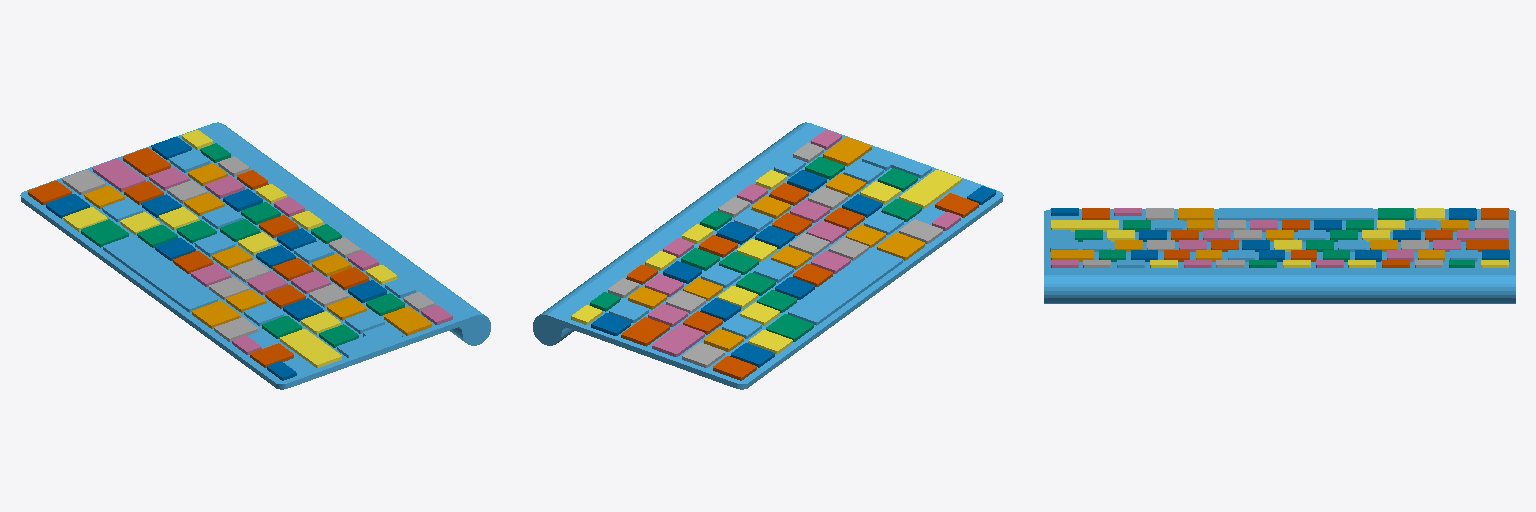
--- What the picture shows (computed from the rendered views, not written in the file) ---
The picture shows the robot from 3 angles, left to right: view 1: azimuth 30°, elevation 25°; view 2: azimuth 150°, elevation 25°; view 3: azimuth 270°, elevation 25°; orthographic projection.
Model partnet_8b886bb1aba6938aa3c97bdad98f8ca with 79 links and 78 joints (77 prismatic, 1 fixed), rooted at base, posed every joint at zero.
Visible links, largest first — view 1: link_0, link_56, link_50, link_37, link_63, link_12, link_55, link_57, link_38, link_54, link_59, link_60 (+28 smaller); view 2: link_0, link_56, link_50, link_37, link_12, link_63, link_55, link_57, link_38, link_60, link_52, link_58 (+28 smaller); view 3: link_0, link_56, link_50, link_37.
Boxes of the visible links, x1=… form: link_0: x1=20, y1=122, x2=490, y2=389; link_56: x1=103, y1=236, x2=217, y2=312; link_50: x1=280, y1=329, x2=341, y2=367; link_37: x1=92, y1=159, x2=145, y2=191; link_63: x1=383, y1=306, x2=431, y2=335; link_12: x1=123, y1=148, x2=170, y2=176; link_55: x1=192, y1=301, x2=240, y2=328; link_57: x1=81, y1=219, x2=128, y2=247; link_38: x1=62, y1=170, x2=105, y2=194; link_54: x1=214, y1=317, x2=258, y2=341; link_59: x1=45, y1=194, x2=89, y2=218; link_60: x1=28, y1=181, x2=71, y2=204; link_0: x1=533, y1=122, x2=1003, y2=389; link_56: x1=788, y1=249, x2=902, y2=325; link_50: x1=899, y1=170, x2=961, y2=208; link_37: x1=652, y1=324, x2=704, y2=356; link_12: x1=621, y1=317, x2=669, y2=346; link_63: x1=823, y1=137, x2=871, y2=166; link_55: x1=877, y1=233, x2=925, y2=260; link_57: x1=766, y1=314, x2=813, y2=341; link_38: x1=682, y1=342, x2=724, y2=367; link_60: x1=713, y1=356, x2=756, y2=380; link_52: x1=935, y1=193, x2=978, y2=217; link_58: x1=748, y1=330, x2=792, y2=354; link_0: x1=1044, y1=209, x2=1515, y2=303; link_56: x1=1218, y1=208, x2=1373, y2=220; link_50: x1=1051, y1=220, x2=1118, y2=231; link_37: x1=1457, y1=230, x2=1508, y2=241.
Bounding box of the posed robot: 0.8277 × 1.78 × 0.1177 m (x, y, z).
79 mesh visuals loaded from 79 distinct referenced files (79 OBJ).

robot.urdf — partnet_8b886bb1aba6938aa3c97bdad98f8ca:
<?xml version="1.0" ?>
<robot name="partnet_8b886bb1aba6938aa3c97bdad98f8ca">
	<link name="base"/>
	<link name="link_0">
		<visual name="frame-1">
			<origin xyz="0 0 0"/>
			<geometry>
				<mesh filename="package://objects_description/keyboard/textured_objs/original-6.obj"/>
			</geometry>
		</visual>
		<visual name="frame-1">
			<origin xyz="0 0 0"/>
			<geometry>
				<mesh filename="package://objects_description/keyboard/textured_objs/original-80.obj"/>
			</geometry>
		</visual>
		<collision>
			<origin xyz="0 0 0"/>
			<geometry>
				<mesh filename="package://objects_description/keyboard/textured_objs/original-6.obj"/>
			</geometry>
		</collision>
		<collision>
			<origin xyz="0 0 0"/>
			<geometry>
				<mesh filename="package://objects_description/keyboard/textured_objs/original-80.obj"/>
			</geometry>
		</collision>
	</link>
	<joint name="joint_0" type="fixed">
		<origin rpy="1.570796326794897 0 -1.570796326794897" xyz="0 0 0"/>
		<child link="link_0"/>
		<parent link="base"/>
	</joint>
	<link name="link_1">
		<visual name="key-2">
			<origin xyz="0.2305384505420256 -0.04784422458054394 0.11968905767549498"/>
			<geometry>
				<mesh filename="package://objects_description/keyboard/textured_objs/original-20.obj"/>
			</geometry>
		</visual>
		<collision>
			<origin xyz="0.2305384505420256 -0.04784422458054394 0.11968905767549498"/>
			<geometry>
				<mesh filename="package://objects_description/keyboard/textured_objs/original-20.obj"/>
			</geometry>
		</collision>
	</link>
	<joint name="joint_1" type="prismatic">
		<origin xyz="-0.2305384505420256 0.04784422458054394 -0.11968905767549498"/>
		<axis xyz="0 -0.9938588581379322 -0.11065518560268853"/>
		<child link="link_1"/>
		<parent link="link_0"/>
		<limit lower="0" upper="0.01"/>
	</joint>
	<link name="link_2">
		<visual name="key-3">
			<origin xyz="0.2305384505420256 -0.04784422458054394 0.11968905767549498"/>
			<geometry>
				<mesh filename="package://objects_description/keyboard/textured_objs/original-72.obj"/>
			</geometry>
		</visual>
		<collision>
			<origin xyz="0.2305384505420256 -0.04784422458054394 0.11968905767549498"/>
			<geometry>
				<mesh filename="package://objects_description/keyboard/textured_objs/original-72.obj"/>
			</geometry>
		</collision>
	</link>
	<joint name="joint_2" type="prismatic">
		<origin xyz="-0.2305384505420256 0.04784422458054394 -0.11968905767549498"/>
		<axis xyz="0 -0.9938588581379322 -0.11065518560268853"/>
		<child link="link_2"/>
		<parent link="link_0"/>
		<limit lower="0" upper="0.01"/>
	</joint>
	<link name="link_3">
		<visual name="key-4">
			<origin xyz="0.2305384505420256 -0.04784422458054394 0.11968905767549498"/>
			<geometry>
				<mesh filename="package://objects_description/keyboard/textured_objs/original-14.obj"/>
			</geometry>
		</visual>
		<collision>
			<origin xyz="0.2305384505420256 -0.04784422458054394 0.11968905767549498"/>
			<geometry>
				<mesh filename="package://objects_description/keyboard/textured_objs/original-14.obj"/>
			</geometry>
		</collision>
	</link>
	<joint name="joint_3" type="prismatic">
		<origin xyz="-0.2305384505420256 0.04784422458054394 -0.11968905767549498"/>
		<axis xyz="0 -0.9938588581379322 -0.11065518560268853"/>
		<child link="link_3"/>
		<parent link="link_0"/>
		<limit lower="0" upper="0.01"/>
	</joint>
	<link name="link_4">
		<visual name="key-5">
			<origin xyz="0.2305384505420256 -0.04784422458054394 0.11968905767549498"/>
			<geometry>
				<mesh filename="package://objects_description/keyboard/textured_objs/original-10.obj"/>
			</geometry>
		</visual>
		<collision>
			<origin xyz="0.2305384505420256 -0.04784422458054394 0.11968905767549498"/>
			<geometry>
				<mesh filename="package://objects_description/keyboard/textured_objs/original-10.obj"/>
			</geometry>
		</collision>
	</link>
	<joint name="joint_4" type="prismatic">
		<origin xyz="-0.2305384505420256 0.04784422458054394 -0.11968905767549498"/>
		<axis xyz="0 -0.9938588581379322 -0.11065518560268853"/>
		<child link="link_4"/>
		<parent link="link_0"/>
		<limit lower="0" upper="0.01"/>
	</joint>
	<link name="link_5">
		<visual name="key-6">
			<origin xyz="0.2305384505420256 -0.04784422458054394 0.11968905767549498"/>
			<geometry>
				<mesh filename="package://objects_description/keyboard/textured_objs/original-4.obj"/>
			</geometry>
		</visual>
		<collision>
			<origin xyz="0.2305384505420256 -0.04784422458054394 0.11968905767549498"/>
			<geometry>
				<mesh filename="package://objects_description/keyboard/textured_objs/original-4.obj"/>
			</geometry>
		</collision>
	</link>
	<joint name="joint_5" type="prismatic">
		<origin xyz="-0.2305384505420256 0.04784422458054394 -0.11968905767549498"/>
		<axis xyz="0 -0.9938588581379322 -0.11065518560268853"/>
		<child link="link_5"/>
		<parent link="link_0"/>
		<limit lower="0" upper="0.01"/>
	</joint>
	<link name="link_6">
		<visual name="key-7">
			<origin xyz="0.2305384505420256 -0.04784422458054394 0.11968905767549498"/>
			<geometry>
				<mesh filename="package://objects_description/keyboard/textured_objs/original-2.obj"/>
			</geometry>
		</visual>
		<collision>
			<origin xyz="0.2305384505420256 -0.04784422458054394 0.11968905767549498"/>
			<geometry>
				<mesh filename="package://objects_description/keyboard/textured_objs/original-2.obj"/>
			</geometry>
		</collision>
	</link>
	<joint name="joint_6" type="prismatic">
		<origin xyz="-0.2305384505420256 0.04784422458054394 -0.11968905767549498"/>
		<axis xyz="0 -0.9938588581379322 -0.11065518560268853"/>
		<child link="link_6"/>
		<parent link="link_0"/>
		<limit lower="0" upper="0.01"/>
	</joint>
	<link name="link_7">
		<visual name="key-8">
			<origin xyz="0.2305384505420256 -0.04784422458054394 0.11968905767549498"/>
			<geometry>
				<mesh filename="package://objects_description/keyboard/textured_objs/original-23.obj"/>
			</geometry>
		</visual>
		<collision>
			<origin xyz="0.2305384505420256 -0.04784422458054394 0.11968905767549498"/>
			<geometry>
				<mesh filename="package://objects_description/keyboard/textured_objs/original-23.obj"/>
			</geometry>
		</collision>
	</link>
	<joint name="joint_7" type="prismatic">
		<origin xyz="-0.2305384505420256 0.04784422458054394 -0.11968905767549498"/>
		<axis xyz="0 -0.9938588581379322 -0.11065518560268853"/>
		<child link="link_7"/>
		<parent link="link_0"/>
		<limit lower="0" upper="0.01"/>
	</joint>
	<link name="link_8">
		<visual name="key-9">
			<origin xyz="0.2305384505420256 -0.04784422458054394 0.11968905767549498"/>
			<geometry>
				<mesh filename="package://objects_description/keyboard/textured_objs/original-17.obj"/>
			</geometry>
		</visual>
		<collision>
			<origin xyz="0.2305384505420256 -0.04784422458054394 0.11968905767549498"/>
			<geometry>
				<mesh filename="package://objects_description/keyboard/textured_objs/original-17.obj"/>
			</geometry>
		</collision>
	</link>
	<joint name="joint_8" type="prismatic">
		<origin xyz="-0.2305384505420256 0.04784422458054394 -0.11968905767549498"/>
		<axis xyz="0 -0.9938588581379322 -0.11065518560268853"/>
		<child link="link_8"/>
		<parent link="link_0"/>
		<limit lower="0" upper="0.01"/>
	</joint>
	<link name="link_9">
		<visual name="key-10">
			<origin xyz="0.2305384505420256 -0.04784422458054394 0.11968905767549498"/>
			<geometry>
				<mesh filename="package://objects_description/keyboard/textured_objs/original-7.obj"/>
			</geometry>
		</visual>
		<collision>
			<origin xyz="0.2305384505420256 -0.04784422458054394 0.11968905767549498"/>
			<geometry>
				<mesh filename="package://objects_description/keyboard/textured_objs/original-7.obj"/>
			</geometry>
		</collision>
	</link>
	<joint name="joint_9" type="prismatic">
		<origin xyz="-0.2305384505420256 0.04784422458054394 -0.11968905767549498"/>
		<axis xyz="0 -0.9938588581379322 -0.11065518560268853"/>
		<child link="link_9"/>
		<parent link="link_0"/>
		<limit lower="0" upper="0.01"/>
	</joint>
	<link name="link_10">
		<visual name="key-11">
			<origin xyz="0.2305384505420256 -0.04784422458054394 0.11968905767549498"/>
			<geometry>
				<mesh filename="package://objects_description/keyboard/textured_objs/original-9.obj"/>
			</geometry>
		</visual>
		<collision>
			<origin xyz="0.2305384505420256 -0.04784422458054394 0.11968905767549498"/>
			<geometry>
				<mesh filename="package://objects_description/keyboard/textured_objs/original-9.obj"/>
			</geometry>
		</collision>
	</link>
	<joint name="joint_10" type="prismatic">
		<origin xyz="-0.2305384505420256 0.04784422458054394 -0.11968905767549498"/>
		<axis xyz="0 -0.9938588581379322 -0.11065518560268853"/>
		<child link="link_10"/>
		<parent link="link_0"/>
		<limit lower="0" upper="0.01"/>
	</joint>
	<link name="link_11">
		<visual name="key-12">
			<origin xyz="0.2305384505420256 -0.04784422458054394 0.11968905767549498"/>
			<geometry>
				<mesh filename="package://objects_description/keyboard/textured_objs/original-19.obj"/>
			</geometry>
		</visual>
		<collision>
			<origin xyz="0.2305384505420256 -0.04784422458054394 0.11968905767549498"/>
			<geometry>
				<mesh filename="package://objects_description/keyboard/textured_objs/original-19.obj"/>
			</geometry>
		</collision>
	</link>
	<joint name="joint_11" type="prismatic">
		<origin xyz="-0.2305384505420256 0.04784422458054394 -0.11968905767549498"/>
		<axis xyz="0 -0.9938588581379322 -0.11065518560268853"/>
		<child link="link_11"/>
		<parent link="link_0"/>
		<limit lower="0" upper="0.01"/>
	</joint>
	<link name="link_12">
		<visual name="key-13">
			<origin xyz="0.2305384505420256 -0.04784422458054394 0.11968905767549498"/>
			<geometry>
				<mesh filename="package://objects_description/keyboard/textured_objs/original-36.obj"/>
			</geometry>
		</visual>
		<collision>
			<origin xyz="0.2305384505420256 -0.04784422458054394 0.11968905767549498"/>
			<geometry>
				<mesh filename="package://objects_description/keyboard/textured_objs/original-36.obj"/>
			</geometry>
		</collision>
	</link>
	<joint name="joint_12" type="prismatic">
		<origin xyz="-0.2305384505420256 0.04784422458054394 -0.11968905767549498"/>
		<axis xyz="0 -0.9938588581379322 -0.11065518560268853"/>
		<child link="link_12"/>
		<parent link="link_0"/>
		<limit lower="0" upper="0.01"/>
	</joint>
	<link name="link_13">
		<visual name="key-14">
			<origin xyz="0.2305384505420256 -0.04784422458054394 0.11968905767549498"/>
			<geometry>
				<mesh filename="package://objects_description/keyboard/textured_objs/original-78.obj"/>
			</geometry>
		</visual>
		<collision>
			<origin xyz="0.2305384505420256 -0.04784422458054394 0.11968905767549498"/>
			<geometry>
				<mesh filename="package://objects_description/keyboard/textured_objs/original-78.obj"/>
			</geometry>
		</collision>
	</link>
	<joint name="joint_13" type="prismatic">
		<origin xyz="-0.2305384505420256 0.04784422458054394 -0.11968905767549498"/>
		<axis xyz="0 -0.9938588581379322 -0.11065518560268853"/>
		<child link="link_13"/>
		<parent link="link_0"/>
		<limit lower="0" upper="0.01"/>
	</joint>
	<link name="link_14">
		<visual name="key-15">
			<origin xyz="0.2305384505420256 -0.04784422458054394 0.11968905767549498"/>
			<geometry>
				<mesh filename="package://objects_description/keyboard/textured_objs/original-64.obj"/>
			</geometry>
		</visual>
		<collision>
			<origin xyz="0.2305384505420256 -0.04784422458054394 0.11968905767549498"/>
			<geometry>
				<mesh filename="package://objects_description/keyboard/textured_objs/original-64.obj"/>
			</geometry>
		</collision>
	</link>
	<joint name="joint_14" type="prismatic">
		<origin xyz="-0.2305384505420256 0.04784422458054394 -0.11968905767549498"/>
		<axis xyz="0 -0.9938588581379322 -0.11065518560268853"/>
		<child link="link_14"/>
		<parent link="link_0"/>
		<limit lower="0" upper="0.01"/>
	</joint>
	<link name="link_15">
		<visual name="key-16">
			<origin xyz="0.2305384505420256 -0.04784422458054394 0.11968905767549498"/>
			<geometry>
				<mesh filename="package://objects_description/keyboard/textured_objs/original-55.obj"/>
			</geometry>
		</visual>
		<collision>
			<origin xyz="0.2305384505420256 -0.04784422458054394 0.11968905767549498"/>
			<geometry>
				<mesh filename="package://objects_description/keyboard/textured_objs/original-55.obj"/>
			</geometry>
		</collision>
	</link>
	<joint name="joint_15" type="prismatic">
		<origin xyz="-0.2305384505420256 0.04784422458054394 -0.11968905767549498"/>
		<axis xyz="0 -0.9938588581379322 -0.11065518560268853"/>
		<child link="link_15"/>
		<parent link="link_0"/>
		<limit lower="0" upper="0.01"/>
	</joint>
	<link name="link_16">
		<visual name="key-17">
			<origin xyz="0.2305384505420256 -0.04784422458054394 0.11968905767549498"/>
			<geometry>
				<mesh filename="package://objects_description/keyboard/textured_objs/original-39.obj"/>
			</geometry>
		</visual>
		<collision>
			<origin xyz="0.2305384505420256 -0.04784422458054394 0.11968905767549498"/>
			<geometry>
				<mesh filename="package://objects_description/keyboard/textured_objs/original-39.obj"/>
			</geometry>
		</collision>
	</link>
	<joint name="joint_16" type="prismatic">
		<origin xyz="-0.2305384505420256 0.04784422458054394 -0.11968905767549498"/>
		<axis xyz="0 -0.9938588581379322 -0.11065518560268853"/>
		<child link="link_16"/>
		<parent link="link_0"/>
		<limit lower="0" upper="0.01"/>
	</joint>
	<link name="link_17">
		<visual name="key-18">
			<origin xyz="0.2305384505420256 -0.04784422458054394 0.11968905767549498"/>
			<geometry>
				<mesh filename="package://objects_description/keyboard/textured_objs/original-35.obj"/>
			</geometry>
		</visual>
		<collision>
			<origin xyz="0.2305384505420256 -0.04784422458054394 0.11968905767549498"/>
			<geometry>
				<mesh filename="package://objects_description/keyboard/textured_objs/original-35.obj"/>
			</geometry>
		</collision>
	</link>
	<joint name="joint_17" type="prismatic">
		<origin xyz="-0.2305384505420256 0.04784422458054394 -0.11968905767549498"/>
		<axis xyz="0 -0.9938588581379322 -0.11065518560268853"/>
		<child link="link_17"/>
		<parent link="link_0"/>
		<limit lower="0" upper="0.01"/>
	</joint>
	<link name="link_18">
		<visual name="key-19">
			<origin xyz="0.2305384505420256 -0.04784422458054394 0.11968905767549498"/>
			<geometry>
				<mesh filename="package://objects_description/keyboard/textured_objs/original-40.obj"/>
			</geometry>
		</visual>
		<collision>
			<origin xyz="0.2305384505420256 -0.04784422458054394 0.11968905767549498"/>
			<geometry>
				<mesh filename="package://objects_description/keyboard/textured_objs/original-40.obj"/>
			</geometry>
		</collision>
	</link>
	<joint name="joint_18" type="prismatic">
		<origin xyz="-0.2305384505420256 0.04784422458054394 -0.11968905767549498"/>
		<axis xyz="0 -0.9938588581379322 -0.11065518560268853"/>
		<child link="link_18"/>
		<parent link="link_0"/>
		<limit lower="0" upper="0.01"/>
	</joint>
	<link name="link_19">
		<visual name="key-20">
			<origin xyz="0.2305384505420256 -0.04784422458054394 0.11968905767549498"/>
			<geometry>
				<mesh filename="package://objects_description/keyboard/textured_objs/original-54.obj"/>
			</geometry>
		</visual>
		<collision>
			<origin xyz="0.2305384505420256 -0.04784422458054394 0.11968905767549498"/>
			<geometry>
				<mesh filename="package://objects_description/keyboard/textured_objs/original-54.obj"/>
			</geometry>
		</collision>
	</link>
	<joint name="joint_19" type="prismatic">
		<origin xyz="-0.2305384505420256 0.04784422458054394 -0.11968905767549498"/>
		<axis xyz="0 -0.9938588581379322 -0.11065518560268853"/>
		<child link="link_19"/>
		<parent link="link_0"/>
		<limit lower="0" upper="0.01"/>
	</joint>
	<link name="link_20">
		<visual name="key-21">
			<origin xyz="0.2305384505420256 -0.04784422458054394 0.11968905767549498"/>
			<geometry>
				<mesh filename="package://objects_description/keyboard/textured_objs/original-37.obj"/>
			</geometry>
		</visual>
		<collision>
			<origin xyz="0.2305384505420256 -0.04784422458054394 0.11968905767549498"/>
			<geometry>
				<mesh filename="package://objects_description/keyboard/textured_objs/original-37.obj"/>
			</geometry>
		</collision>
	</link>
	<joint name="joint_20" type="prismatic">
		<origin xyz="-0.2305384505420256 0.04784422458054394 -0.11968905767549498"/>
		<axis xyz="0 -0.9938588581379322 -0.11065518560268853"/>
		<child link="link_20"/>
		<parent link="link_0"/>
		<limit lower="0" upper="0.01"/>
	</joint>
	<link name="link_21">
		<visual name="key-22">
			<origin xyz="0.2305384505420256 -0.04784422458054394 0.11968905767549498"/>
			<geometry>
				<mesh filename="package://objects_description/keyboard/textured_objs/original-53.obj"/>
			</geometry>
		</visual>
		<collision>
			<origin xyz="0.2305384505420256 -0.04784422458054394 0.11968905767549498"/>
			<geometry>
				<mesh filename="package://objects_description/keyboard/textured_objs/original-53.obj"/>
			</geometry>
		</collision>
	</link>
	<joint name="joint_21" type="prismatic">
		<origin xyz="-0.2305384505420256 0.04784422458054394 -0.11968905767549498"/>
		<axis xyz="0 -0.9938588581379322 -0.11065518560268853"/>
		<child link="link_21"/>
		<parent link="link_0"/>
		<limit lower="0" upper="0.01"/>
	</joint>
	<link name="link_22">
		<visual name="key-23">
			<origin xyz="0.2305384505420256 -0.04784422458054394 0.11968905767549498"/>
			<geometry>
				<mesh filename="package://objects_description/keyboard/textured_objs/original-52.obj"/>
			</geometry>
		</visual>
		<collision>
			<origin xyz="0.2305384505420256 -0.04784422458054394 0.11968905767549498"/>
			<geometry>
				<mesh filename="package://objects_description/keyboard/textured_objs/original-52.obj"/>
			</geometry>
		</collision>
	</link>
	<joint name="joint_22" type="prismatic">
		<origin xyz="-0.2305384505420256 0.04784422458054394 -0.11968905767549498"/>
		<axis xyz="0 -0.9938588581379322 -0.11065518560268853"/>
		<child link="link_22"/>
		<parent link="link_0"/>
		<limit lower="0" upper="0.01"/>
	</joint>
	<link name="link_23">
		<visual name="key-24">
			<origin xyz="0.2305384505420256 -0.04784422458054394 0.11968905767549498"/>
			<geometry>
				<mesh filename="package://objects_description/keyboard/textured_objs/original-38.obj"/>
			</geometry>
		</visual>
		<collision>
			<origin xyz="0.2305384505420256 -0.04784422458054394 0.11968905767549498"/>
			<geometry>
				<mesh filename="package://objects_description/keyboard/textured_objs/original-38.obj"/>
			</geometry>
		</collision>
	</link>
	<joint name="joint_23" type="prismatic">
		<origin xyz="-0.2305384505420256 0.04784422458054394 -0.11968905767549498"/>
		<axis xyz="0 -0.9938588581379322 -0.11065518560268853"/>
		<child link="link_23"/>
		<parent link="link_0"/>
		<limit lower="0" upper="0.01"/>
	</joint>
	<link name="link_24">
		<visual name="key-25">
			<origin xyz="0.2305384505420256 -0.04784422458054394 0.11968905767549498"/>
			<geometry>
				<mesh filename="package://objects_description/keyboard/textured_objs/original-51.obj"/>
			</geometry>
		</visual>
		<collision>
			<origin xyz="0.2305384505420256 -0.04784422458054394 0.11968905767549498"/>
			<geometry>
				<mesh filename="package://objects_description/keyboard/textured_objs/original-51.obj"/>
			</geometry>
		</collision>
	</link>
	<joint name="joint_24" type="prismatic">
		<origin xyz="-0.2305384505420256 0.04784422458054394 -0.11968905767549498"/>
		<axis xyz="0 -0.9938588581379322 -0.11065518560268853"/>
		<child link="link_24"/>
		<parent link="link_0"/>
		<limit lower="0" upper="0.01"/>
	</joint>
	<link name="link_25">
		<visual name="key-26">
			<origin xyz="0.2305384505420256 -0.04784422458054394 0.11968905767549498"/>
			<geometry>
				<mesh filename="package://objects_description/keyboard/textured_objs/original-13.obj"/>
			</geometry>
		</visual>
		<collision>
			<origin xyz="0.2305384505420256 -0.04784422458054394 0.11968905767549498"/>
			<geometry>
				<mesh filename="package://objects_description/keyboard/textured_objs/original-13.obj"/>
			</geometry>
		</collision>
	</link>
	<joint name="joint_25" type="prismatic">
		<origin xyz="-0.2305384505420256 0.04784422458054394 -0.11968905767549498"/>
		<axis xyz="0 -0.9938588581379322 -0.11065518560268853"/>
		<child link="link_25"/>
		<parent link="link_0"/>
		<limit lower="0" upper="0.01"/>
	</joint>
	<link name="link_26">
		<visual name="key-27">
			<origin xyz="0.2305384505420256 -0.04784422458054394 0.11968905767549498"/>
			<geometry>
				<mesh filename="package://objects_description/keyboard/textured_objs/original-32.obj"/>
			</geometry>
		</visual>
		<collision>
			<origin xyz="0.2305384505420256 -0.04784422458054394 0.11968905767549498"/>
			<geometry>
				<mesh filename="package://objects_description/keyboard/textured_objs/original-32.obj"/>
			</geometry>
		</collision>
	</link>
	<joint name="joint_26" type="prismatic">
		<origin xyz="-0.2305384505420256 0.04784422458054394 -0.11968905767549498"/>
		<axis xyz="0 -0.9938588581379322 -0.11065518560268853"/>
		<child link="link_26"/>
		<parent link="link_0"/>
		<limit lower="0" upper="0.01"/>
	</joint>
	<link name="link_27">
		<visual name="key-28">
			<origin xyz="0.2305384505420256 -0.04784422458054394 0.11968905767549498"/>
			<geometry>
				<mesh filename="package://objects_description/keyboard/textured_objs/original-50.obj"/>
			</geometry>
		</visual>
		<collision>
			<origin xyz="0.2305384505420256 -0.04784422458054394 0.11968905767549498"/>
			<geometry>
				<mesh filename="package://objects_description/keyboard/textured_objs/original-50.obj"/>
			</geometry>
		</collision>
	</link>
	<joint name="joint_27" type="prismatic">
		<origin xyz="-0.2305384505420256 0.04784422458054394 -0.11968905767549498"/>
		<axis xyz="0 -0.9938588581379322 -0.11065518560268853"/>
		<child link="link_27"/>
		<parent link="link_0"/>
		<limit lower="0" upper="0.01"/>
	</joint>
	<link name="link_28">
		<visual name="key-29">
			<origin xyz="0.2305384505420256 -0.04784422458054394 0.11968905767549498"/>
			<geometry>
				<mesh filename="package://objects_description/keyboard/textured_objs/original-49.obj"/>
			</geometry>
		</visual>
		<collision>
			<origin xyz="0.2305384505420256 -0.04784422458054394 0.11968905767549498"/>
			<geometry>
				<mesh filename="package://objects_description/keyboard/textured_objs/original-49.obj"/>
			</geometry>
		</collision>
	</link>
	<joint name="joint_28" type="prismatic">
		<origin xyz="-0.2305384505420256 0.04784422458054394 -0.11968905767549498"/>
		<axis xyz="0 -0.9938588581379322 -0.11065518560268853"/>
		<child link="link_28"/>
		<parent link="link_0"/>
		<limit lower="0" upper="0.01"/>
	</joint>
	<link name="link_29">
		<visual name="key-30">
			<origin xyz="0.2305384505420256 -0.04784422458054394 0.11968905767549498"/>
			<geometry>
				<mesh filename="package://objects_description/keyboard/textured_objs/original-47.obj"/>
			</geometry>
		</visual>
		<collision>
			<origin xyz="0.2305384505420256 -0.04784422458054394 0.11968905767549498"/>
			<geometry>
				<mesh filename="package://objects_description/keyboard/textured_objs/original-47.obj"/>
			</geometry>
		</collision>
	</link>
	<joint name="joint_29" type="prismatic">
		<origin xyz="-0.2305384505420256 0.04784422458054394 -0.11968905767549498"/>
		<axis xyz="0 -0.9938588581379322 -0.11065518560268853"/>
		<child link="link_29"/>
		<parent link="link_0"/>
		<limit lower="0" upper="0.01"/>
	</joint>
	<link name="link_30">
		<visual name="key-31">
			<origin xyz="0.2305384505420256 -0.04784422458054394 0.11968905767549498"/>
			<geometry>
				<mesh filename="package://objects_description/keyboard/textured_objs/original-43.obj"/>
			</geometry>
		</visual>
		<collision>
			<origin xyz="0.2305384505420256 -0.04784422458054394 0.11968905767549498"/>
			<geometry>
				<mesh filename="package://objects_description/keyboard/textured_objs/original-43.obj"/>
			</geometry>
		</collision>
	</link>
	<joint name="joint_30" type="prismatic">
		<origin xyz="-0.2305384505420256 0.04784422458054394 -0.11968905767549498"/>
		<axis xyz="0 -0.9938588581379322 -0.11065518560268853"/>
		<child link="link_30"/>
		<parent link="link_0"/>
		<limit lower="0" upper="0.01"/>
	</joint>
	<link name="link_31">
		<visual name="key-32">
			<origin xyz="0.2305384505420256 -0.04784422458054394 0.11968905767549498"/>
			<geometry>
				<mesh filename="package://objects_description/keyboard/textured_objs/original-67.obj"/>
			</geometry>
		</visual>
		<collision>
			<origin xyz="0.2305384505420256 -0.04784422458054394 0.11968905767549498"/>
			<geometry>
				<mesh filename="package://objects_description/keyboard/textured_objs/original-67.obj"/>
			</geometry>
		</collision>
	</link>
	<joint name="joint_31" type="prismatic">
		<origin xyz="-0.2305384505420256 0.04784422458054394 -0.11968905767549498"/>
		<axis xyz="0 -0.9938588581379322 -0.11065518560268853"/>
		<child link="link_31"/>
		<parent link="link_0"/>
		<limit lower="0" upper="0.01"/>
	</joint>
	<link name="link_32">
		<visual name="key-33">
			<origin xyz="0.2305384505420256 -0.04784422458054394 0.11968905767549498"/>
			<geometry>
				<mesh filename="package://objects_description/keyboard/textured_objs/original-44.obj"/>
			</geometry>
		</visual>
		<collision>
			<origin xyz="0.2305384505420256 -0.04784422458054394 0.11968905767549498"/>
			<geometry>
				<mesh filename="package://objects_description/keyboard/textured_objs/original-44.obj"/>
			</geometry>
		</collision>
	</link>
	<joint name="joint_32" type="prismatic">
		<origin xyz="-0.2305384505420256 0.04784422458054394 -0.11968905767549498"/>
		<axis xyz="0 -0.9938588581379322 -0.11065518560268853"/>
		<child link="link_32"/>
		<parent link="link_0"/>
		<limit lower="0" upper="0.01"/>
	</joint>
	<link name="link_33">
		<visual name="key-34">
			<origin xyz="0.2305384505420256 -0.04784422458054394 0.11968905767549498"/>
			<geometry>
				<mesh filename="package://objects_description/keyboard/textured_objs/original-59.obj"/>
			</geometry>
		</visual>
		<collision>
			<origin xyz="0.2305384505420256 -0.04784422458054394 0.11968905767549498"/>
			<geometry>
				<mesh filename="package://objects_description/keyboard/textured_objs/original-59.obj"/>
			</geometry>
		</collision>
	</link>
	<joint name="joint_33" type="prismatic">
		<origin xyz="-0.2305384505420256 0.04784422458054394 -0.11968905767549498"/>
		<axis xyz="0 -0.9938588581379322 -0.11065518560268853"/>
		<child link="link_33"/>
		<parent link="link_0"/>
		<limit lower="0" upper="0.01"/>
	</joint>
	<link name="link_34">
		<visual name="key-35">
			<origin xyz="0.2305384505420256 -0.04784422458054394 0.11968905767549498"/>
			<geometry>
				<mesh filename="package://objects_description/keyboard/textured_objs/original-65.obj"/>
			</geometry>
		</visual>
		<collision>
			<origin xyz="0.2305384505420256 -0.04784422458054394 0.11968905767549498"/>
			<geometry>
				<mesh filename="package://objects_description/keyboard/textured_objs/original-65.obj"/>
			</geometry>
		</collision>
	</link>
	<joint name="joint_34" type="prismatic">
		<origin xyz="-0.2305384505420256 0.04784422458054394 -0.11968905767549498"/>
		<axis xyz="0 -0.9938588581379322 -0.11065518560268853"/>
		<child link="link_34"/>
		<parent link="link_0"/>
		<limit lower="0" upper="0.01"/>
	</joint>
	<link name="link_35">
		<visual name="key-36">
			<origin xyz="0.2305384505420256 -0.04784422458054394 0.11968905767549498"/>
			<geometry>
				<mesh filename="package://objects_description/keyboard/textured_objs/original-57.obj"/>
			</geometry>
		</visual>
		<collision>
			<origin xyz="0.2305384505420256 -0.04784422458054394 0.11968905767549498"/>
			<geometry>
				<mesh filename="package://objects_description/keyboard/textured_objs/original-57.obj"/>
			</geometry>
		</collision>
	</link>
	<joint name="joint_35" type="prismatic">
		<origin xyz="-0.2305384505420256 0.04784422458054394 -0.11968905767549498"/>
		<axis xyz="0 -0.9938588581379322 -0.11065518560268853"/>
		<child link="link_35"/>
		<parent link="link_0"/>
		<limit lower="0" upper="0.01"/>
	</joint>
	<link name="link_36">
		<visual name="key-37">
			<origin xyz="0.2305384505420256 -0.04784422458054394 0.11968905767549498"/>
			<geometry>
				<mesh filename="package://objects_description/keyboard/textured_objs/original-79.obj"/>
			</geometry>
		</visual>
		<collision>
			<origin xyz="0.2305384505420256 -0.04784422458054394 0.11968905767549498"/>
			<geometry>
				<mesh filename="package://objects_description/keyboard/textured_objs/original-79.obj"/>
			</geometry>
		</collision>
	</link>
	<joint name="joint_36" type="prismatic">
		<origin xyz="-0.2305384505420256 0.04784422458054394 -0.11968905767549498"/>
		<axis xyz="0 -0.9938588581379322 -0.11065518560268853"/>
		<child link="link_36"/>
		<parent link="link_0"/>
		<limit lower="0" upper="0.01"/>
	</joint>
	<link name="link_37">
		<visual name="key-38">
			<origin xyz="0.2305384505420256 -0.04784422458054394 0.11968905767549498"/>
			<geometry>
				<mesh filename="package://objects_description/keyboard/textured_objs/original-34.obj"/>
			</geometry>
		</visual>
		<collision>
			<origin xyz="0.2305384505420256 -0.04784422458054394 0.11968905767549498"/>
			<geometry>
				<mesh filename="package://objects_description/keyboard/textured_objs/original-34.obj"/>
			</geometry>
		</collision>
	</link>
	<joint name="joint_37" type="prismatic">
		<origin xyz="-0.2305384505420256 0.04784422458054394 -0.11968905767549498"/>
		<axis xyz="0 -0.9938588581379322 -0.11065518560268853"/>
		<child link="link_37"/>
		<parent link="link_0"/>
		<limit lower="0" upper="0.01"/>
	</joint>
	<link name="link_38">
		<visual name="key-39">
			<origin xyz="0.2305384505420256 -0.04784422458054394 0.11968905767549498"/>
			<geometry>
				<mesh filename="package://objects_description/keyboard/textured_objs/original-16.obj"/>
			</geometry>
		</visual>
		<collision>
			<origin xyz="0.2305384505420256 -0.04784422458054394 0.11968905767549498"/>
			<geometry>
				<mesh filename="package://objects_description/keyboard/textured_objs/original-16.obj"/>
			</geometry>
		</collision>
	</link>
	<joint name="joint_38" type="prismatic">
		<origin xyz="-0.2305384505420256 0.04784422458054394 -0.11968905767549498"/>
		<axis xyz="0 -0.9938588581379322 -0.11065518560268853"/>
		<child link="link_38"/>
		<parent link="link_0"/>
		<limit lower="0" upper="0.01"/>
	</joint>
	<link name="link_39">
		<visual name="key-40">
			<origin xyz="0.2305384505420256 -0.04784422458054394 0.11968905767549498"/>
			<geometry>
				<mesh filename="package://objects_description/keyboard/textured_objs/original-3.obj"/>
			</geometry>
		</visual>
		<collision>
			<origin xyz="0.2305384505420256 -0.04784422458054394 0.11968905767549498"/>
			<geometry>
				<mesh filename="package://objects_description/keyboard/textured_objs/original-3.obj"/>
			</geometry>
		</collision>
	</link>
	<joint name="joint_39" type="prismatic">
		<origin xyz="-0.2305384505420256 0.04784422458054394 -0.11968905767549498"/>
		<axis xyz="0 -0.9938588581379322 -0.11065518560268853"/>
		<child link="link_39"/>
		<parent link="link_0"/>
		<limit lower="0" upper="0.01"/>
	</joint>
	<link name="link_40">
		<visual name="key-41">
			<origin xyz="0.2305384505420256 -0.04784422458054394 0.11968905767549498"/>
			<geometry>
				<mesh filename="package://objects_description/keyboard/textured_objs/original-5.obj"/>
			</geometry>
		</visual>
		<collision>
			<origin xyz="0.2305384505420256 -0.04784422458054394 0.11968905767549498"/>
			<geometry>
				<mesh filename="package://objects_description/keyboard/textured_objs/original-5.obj"/>
			</geometry>
		</collision>
	</link>
	<joint name="joint_40" type="prismatic">
		<origin xyz="-0.2305384505420256 0.04784422458054394 -0.11968905767549498"/>
		<axis xyz="0 -0.9938588581379322 -0.11065518560268853"/>
		<child link="link_40"/>
		<parent link="link_0"/>
		<limit lower="0" upper="0.01"/>
	</joint>
	<link name="link_41">
		<visual name="key-42">
			<origin xyz="0.2305384505420256 -0.04784422458054394 0.11968905767549498"/>
			<geometry>
				<mesh filename="package://objects_description/keyboard/textured_objs/original-56.obj"/>
			</geometry>
		</visual>
		<collision>
			<origin xyz="0.2305384505420256 -0.04784422458054394 0.11968905767549498"/>
			<geometry>
				<mesh filename="package://objects_description/keyboard/textured_objs/original-56.obj"/>
			</geometry>
		</collision>
	</link>
	<joint name="joint_41" type="prismatic">
		<origin xyz="-0.2305384505420256 0.04784422458054394 -0.11968905767549498"/>
		<axis xyz="0 -0.9938588581379322 -0.11065518560268853"/>
		<child link="link_41"/>
		<parent link="link_0"/>
		<limit lower="0" upper="0.01"/>
	</joint>
	<link name="link_42">
		<visual name="key-43">
			<origin xyz="0.2305384505420256 -0.04784422458054394 0.11968905767549498"/>
			<geometry>
				<mesh filename="package://objects_description/keyboard/textured_objs/original-21.obj"/>
			</geometry>
		</visual>
		<collision>
			<origin xyz="0.2305384505420256 -0.04784422458054394 0.11968905767549498"/>
			<geometry>
				<mesh filename="package://objects_description/keyboard/textured_objs/original-21.obj"/>
			</geometry>
		</collision>
	</link>
	<joint name="joint_42" type="prismatic">
		<origin xyz="-0.2305384505420256 0.04784422458054394 -0.11968905767549498"/>
		<axis xyz="0 -0.9938588581379322 -0.11065518560268853"/>
		<child link="link_42"/>
		<parent link="link_0"/>
		<limit lower="0" upper="0.01"/>
	</joint>
	<link name="link_43">
		<visual name="key-44">
			<origin xyz="0.2305384505420256 -0.04784422458054394 0.11968905767549498"/>
			<geometry>
				<mesh filename="package://objects_description/keyboard/textured_objs/original-58.obj"/>
			</geometry>
		</visual>
		<collision>
			<origin xyz="0.2305384505420256 -0.04784422458054394 0.11968905767549498"/>
			<geometry>
				<mesh filename="package://objects_description/keyboard/textured_objs/original-58.obj"/>
			</geometry>
		</collision>
	</link>
	<joint name="joint_43" type="prismatic">
		<origin xyz="-0.2305384505420256 0.04784422458054394 -0.11968905767549498"/>
		<axis xyz="0 -0.9938588581379322 -0.11065518560268853"/>
		<child link="link_43"/>
		<parent link="link_0"/>
		<limit lower="0" upper="0.01"/>
	</joint>
	<link name="link_44">
		<visual name="key-45">
			<origin xyz="0.2305384505420256 -0.04784422458054394 0.11968905767549498"/>
			<geometry>
				<mesh filename="package://objects_description/keyboard/textured_objs/original-66.obj"/>
			</geometry>
		</visual>
		<collision>
			<origin xyz="0.2305384505420256 -0.04784422458054394 0.11968905767549498"/>
			<geometry>
				<mesh filename="package://objects_description/keyboard/textured_objs/original-66.obj"/>
			</geometry>
		</collision>
	</link>
	<joint name="joint_44" type="prismatic">
		<origin xyz="-0.2305384505420256 0.04784422458054394 -0.11968905767549498"/>
		<axis xyz="0 -0.9938588581379322 -0.11065518560268853"/>
		<child link="link_44"/>
		<parent link="link_0"/>
		<limit lower="0" upper="0.01"/>
	</joint>
	<link name="link_45">
		<visual name="key-46">
			<origin xyz="0.2305384505420256 -0.04784422458054394 0.11968905767549498"/>
			<geometry>
				<mesh filename="package://objects_description/keyboard/textured_objs/original-24.obj"/>
			</geometry>
		</visual>
		<collision>
			<origin xyz="0.2305384505420256 -0.04784422458054394 0.11968905767549498"/>
			<geometry>
				<mesh filename="package://objects_description/keyboard/textured_objs/original-24.obj"/>
			</geometry>
		</collision>
	</link>
	<joint name="joint_45" type="prismatic">
		<origin xyz="-0.2305384505420256 0.04784422458054394 -0.11968905767549498"/>
		<axis xyz="0 -0.9938588581379322 -0.11065518560268853"/>
		<child link="link_45"/>
		<parent link="link_0"/>
		<limit lower="0" upper="0.01"/>
	</joint>
	<link name="link_46">
		<visual name="key-47">
			<origin xyz="0.2305384505420256 -0.04784422458054394 0.11968905767549498"/>
			<geometry>
				<mesh filename="package://objects_description/keyboard/textured_objs/original-69.obj"/>
			</geometry>
		</visual>
		<collision>
			<origin xyz="0.2305384505420256 -0.04784422458054394 0.11968905767549498"/>
			<geometry>
				<mesh filename="package://objects_description/keyboard/textured_objs/original-69.obj"/>
			</geometry>
		</collision>
	</link>
	<joint name="joint_46" type="prismatic">
		<origin xyz="-0.2305384505420256 0.04784422458054394 -0.11968905767549498"/>
		<axis xyz="0 -0.9938588581379322 -0.11065518560268853"/>
		<child link="link_46"/>
		<parent link="link_0"/>
		<limit lower="0" upper="0.01"/>
	</joint>
	<link name="link_47">
		<visual name="key-48">
			<origin xyz="0.2305384505420256 -0.04784422458054394 0.11968905767549498"/>
			<geometry>
				<mesh filename="package://objects_description/keyboard/textured_objs/original-70.obj"/>
			</geometry>
		</visual>
		<collision>
			<origin xyz="0.2305384505420256 -0.04784422458054394 0.11968905767549498"/>
			<geometry>
				<mesh filename="package://objects_description/keyboard/textured_objs/original-70.obj"/>
			</geometry>
		</collision>
	</link>
	<joint name="joint_47" type="prismatic">
		<origin xyz="-0.2305384505420256 0.04784422458054394 -0.11968905767549498"/>
		<axis xyz="0 -0.9938588581379322 -0.11065518560268853"/>
		<child link="link_47"/>
		<parent link="link_0"/>
		<limit lower="0" upper="0.01"/>
	</joint>
	<link name="link_48">
		<visual name="key-49">
			<origin xyz="0.2305384505420256 -0.04784422458054394 0.11968905767549498"/>
			<geometry>
				<mesh filename="package://objects_description/keyboard/textured_objs/original-46.obj"/>
			</geometry>
		</visual>
		<collision>
			<origin xyz="0.2305384505420256 -0.04784422458054394 0.11968905767549498"/>
			<geometry>
				<mesh filename="package://objects_description/keyboard/textured_objs/original-46.obj"/>
			</geometry>
		</collision>
	</link>
	<joint name="joint_48" type="prismatic">
		<origin xyz="-0.2305384505420256 0.04784422458054394 -0.11968905767549498"/>
		<axis xyz="0 -0.9938588581379322 -0.11065518560268853"/>
		<child link="link_48"/>
		<parent link="link_0"/>
		<limit lower="0" upper="0.01"/>
	</joint>
	<link name="link_49">
		<visual name="key-50">
			<origin xyz="0.2305384505420256 -0.04784422458054394 0.11968905767549498"/>
			<geometry>
				<mesh filename="package://objects_description/keyboard/textured_objs/original-45.obj"/>
			</geometry>
		</visual>
		<collision>
			<origin xyz="0.2305384505420256 -0.04784422458054394 0.11968905767549498"/>
			<geometry>
				<mesh filename="package://objects_description/keyboard/textured_objs/original-45.obj"/>
			</geometry>
		</collision>
	</link>
	<joint name="joint_49" type="prismatic">
		<origin xyz="-0.2305384505420256 0.04784422458054394 -0.11968905767549498"/>
		<axis xyz="0 -0.9938588581379322 -0.11065518560268853"/>
		<child link="link_49"/>
		<parent link="link_0"/>
		<limit lower="0" upper="0.01"/>
	</joint>
	<link name="link_50">
		<visual name="key-51">
			<origin xyz="0.2305384505420256 -0.04784422458054394 0.11968905767549498"/>
			<geometry>
				<mesh filename="package://objects_description/keyboard/textured_objs/original-48.obj"/>
			</geometry>
		</visual>
		<collision>
			<origin xyz="0.2305384505420256 -0.04784422458054394 0.11968905767549498"/>
			<geometry>
				<mesh filename="package://objects_description/keyboard/textured_objs/original-48.obj"/>
			</geometry>
		</collision>
	</link>
	<joint name="joint_50" type="prismatic">
		<origin xyz="-0.2305384505420256 0.04784422458054394 -0.11968905767549498"/>
		<axis xyz="0 -0.9938588581379322 -0.11065518560268853"/>
		<child link="link_50"/>
		<parent link="link_0"/>
		<limit lower="0" upper="0.01"/>
	</joint>
	<link name="link_51">
		<visual name="key-52">
			<origin xyz="0.2305384505420256 -0.04784422458054394 0.11968905767549498"/>
			<geometry>
				<mesh filename="package://objects_description/keyboard/textured_objs/original-41.obj"/>
			</geometry>
		</visual>
		<collision>
			<origin xyz="0.2305384505420256 -0.04784422458054394 0.11968905767549498"/>
			<geometry>
				<mesh filename="package://objects_description/keyboard/textured_objs/original-41.obj"/>
			</geometry>
		</collision>
	</link>
	<joint name="joint_51" type="prismatic">
		<origin xyz="-0.2305384505420256 0.04784422458054394 -0.11968905767549498"/>
		<axis xyz="0 -0.9938588581379322 -0.11065518560268853"/>
		<child link="link_51"/>
		<parent link="link_0"/>
		<limit lower="0" upper="0.01"/>
	</joint>
	<link name="link_52">
		<visual name="key-53">
			<origin xyz="0.2305384505420256 -0.04784422458054394 0.11968905767549498"/>
			<geometry>
				<mesh filename="package://objects_description/keyboard/textured_objs/original-33.obj"/>
			</geometry>
		</visual>
		<collision>
			<origin xyz="0.2305384505420256 -0.04784422458054394 0.11968905767549498"/>
			<geometry>
				<mesh filename="package://objects_description/keyboard/textured_objs/original-33.obj"/>
			</geometry>
		</collision>
	</link>
	<joint name="joint_52" type="prismatic">
		<origin xyz="-0.2305384505420256 0.04784422458054394 -0.11968905767549498"/>
		<axis xyz="0 -0.9938588581379322 -0.11065518560268853"/>
		<child link="link_52"/>
		<parent link="link_0"/>
		<limit lower="0" upper="0.01"/>
	</joint>
	<link name="link_53">
		<visual name="key-54">
			<origin xyz="0.2305384505420256 -0.04784422458054394 0.11968905767549498"/>
			<geometry>
				<mesh filename="package://objects_description/keyboard/textured_objs/original-28.obj"/>
			</geometry>
		</visual>
		<collision>
			<origin xyz="0.2305384505420256 -0.04784422458054394 0.11968905767549498"/>
			<geometry>
				<mesh filename="package://objects_description/keyboard/textured_objs/original-28.obj"/>
			</geometry>
		</collision>
	</link>
	<joint name="joint_53" type="prismatic">
		<origin xyz="-0.2305384505420256 0.04784422458054394 -0.11968905767549498"/>
		<axis xyz="0 -0.9938588581379322 -0.11065518560268853"/>
		<child link="link_53"/>
		<parent link="link_0"/>
		<limit lower="0" upper="0.01"/>
	</joint>
	<link name="link_54">
		<visual name="key-55">
			<origin xyz="0.2305384505420256 -0.04784422458054394 0.11968905767549498"/>
			<geometry>
				<mesh filename="package://objects_description/keyboard/textured_objs/original-42.obj"/>
			</geometry>
		</visual>
		<collision>
			<origin xyz="0.2305384505420256 -0.04784422458054394 0.11968905767549498"/>
			<geometry>
				<mesh filename="package://objects_description/keyboard/textured_objs/original-42.obj"/>
			</geometry>
		</collision>
	</link>
	<joint name="joint_54" type="prismatic">
		<origin xyz="-0.2305384505420256 0.04784422458054394 -0.11968905767549498"/>
		<axis xyz="0 -0.9938588581379322 -0.11065518560268853"/>
		<child link="link_54"/>
		<parent link="link_0"/>
		<limit lower="0" upper="0.01"/>
	</joint>
	<link name="link_55">
		<visual name="key-56">
			<origin xyz="0.2305384505420256 -0.04784422458054394 0.11968905767549498"/>
			<geometry>
				<mesh filename="package://objects_description/keyboard/textured_objs/original-74.obj"/>
			</geometry>
		</visual>
		<collision>
			<origin xyz="0.2305384505420256 -0.04784422458054394 0.11968905767549498"/>
			<geometry>
				<mesh filename="package://objects_description/keyboard/textured_objs/original-74.obj"/>
			</geometry>
		</collision>
	</link>
	<joint name="joint_55" type="prismatic">
		<origin xyz="-0.2305384505420256 0.04784422458054394 -0.11968905767549498"/>
		<axis xyz="0 -0.9938588581379322 -0.11065518560268853"/>
		<child link="link_55"/>
		<parent link="link_0"/>
		<limit lower="0" upper="0.01"/>
	</joint>
	<link name="link_56">
		<visual name="key-57">
			<origin xyz="0.2305384505420256 -0.04784422458054394 0.11968905767549498"/>
			<geometry>
				<mesh filename="package://objects_description/keyboard/textured_objs/original-68.obj"/>
			</geometry>
		</visual>
		<collision>
			<origin xyz="0.2305384505420256 -0.04784422458054394 0.11968905767549498"/>
			<geometry>
				<mesh filename="package://objects_description/keyboard/textured_objs/original-68.obj"/>
			</geometry>
		</collision>
	</link>
	<joint name="joint_56" type="prismatic">
		<origin xyz="-0.2305384505420256 0.04784422458054394 -0.11968905767549498"/>
		<axis xyz="0 -0.9938588581379322 -0.11065518560268853"/>
		<child link="link_56"/>
		<parent link="link_0"/>
		<limit lower="0" upper="0.01"/>
	</joint>
	<link name="link_57">
		<visual name="key-58">
			<origin xyz="0.2305384505420256 -0.04784422458054394 0.11968905767549498"/>
			<geometry>
				<mesh filename="package://objects_description/keyboard/textured_objs/original-22.obj"/>
			</geometry>
		</visual>
		<collision>
			<origin xyz="0.2305384505420256 -0.04784422458054394 0.11968905767549498"/>
			<geometry>
				<mesh filename="package://objects_description/keyboard/textured_objs/original-22.obj"/>
			</geometry>
		</collision>
	</link>
	<joint name="joint_57" type="prismatic">
		<origin xyz="-0.2305384505420256 0.04784422458054394 -0.11968905767549498"/>
		<axis xyz="0 -0.9938588581379322 -0.11065518560268853"/>
		<child link="link_57"/>
		<parent link="link_0"/>
		<limit lower="0" upper="0.01"/>
	</joint>
	<link name="link_58">
		<visual name="key-59">
			<origin xyz="0.2305384505420256 -0.04784422458054394 0.11968905767549498"/>
			<geometry>
				<mesh filename="package://objects_description/keyboard/textured_objs/original-77.obj"/>
			</geometry>
		</visual>
		<collision>
			<origin xyz="0.2305384505420256 -0.04784422458054394 0.11968905767549498"/>
			<geometry>
				<mesh filename="package://objects_description/keyboard/textured_objs/original-77.obj"/>
			</geometry>
		</collision>
	</link>
	<joint name="joint_58" type="prismatic">
		<origin xyz="-0.2305384505420256 0.04784422458054394 -0.11968905767549498"/>
		<axis xyz="0 -0.9938588581379322 -0.11065518560268853"/>
		<child link="link_58"/>
		<parent link="link_0"/>
		<limit lower="0" upper="0.01"/>
	</joint>
	<link name="link_59">
		<visual name="key-60">
			<origin xyz="0.2305384505420256 -0.04784422458054394 0.11968905767549498"/>
			<geometry>
				<mesh filename="package://objects_description/keyboard/textured_objs/original-76.obj"/>
			</geometry>
		</visual>
		<collision>
			<origin xyz="0.2305384505420256 -0.04784422458054394 0.11968905767549498"/>
			<geometry>
				<mesh filename="package://objects_description/keyboard/textured_objs/original-76.obj"/>
			</geometry>
		</collision>
	</link>
	<joint name="joint_59" type="prismatic">
		<origin xyz="-0.2305384505420256 0.04784422458054394 -0.11968905767549498"/>
		<axis xyz="0 -0.9938588581379322 -0.11065518560268853"/>
		<child link="link_59"/>
		<parent link="link_0"/>
		<limit lower="0" upper="0.01"/>
	</joint>
	<link name="link_60">
		<visual name="key-61">
			<origin xyz="0.2305384505420256 -0.04784422458054394 0.11968905767549498"/>
			<geometry>
				<mesh filename="package://objects_description/keyboard/textured_objs/original-75.obj"/>
			</geometry>
		</visual>
		<collision>
			<origin xyz="0.2305384505420256 -0.04784422458054394 0.11968905767549498"/>
			<geometry>
				<mesh filename="package://objects_description/keyboard/textured_objs/original-75.obj"/>
			</geometry>
		</collision>
	</link>
	<joint name="joint_60" type="prismatic">
		<origin xyz="-0.2305384505420256 0.04784422458054394 -0.11968905767549498"/>
		<axis xyz="0 -0.9938588581379322 -0.11065518560268853"/>
		<child link="link_60"/>
		<parent link="link_0"/>
		<limit lower="0" upper="0.01"/>
	</joint>
	<link name="link_61">
		<visual name="key-62">
			<origin xyz="0.2305384505420256 -0.04784422458054394 0.11968905767549498"/>
			<geometry>
				<mesh filename="package://objects_description/keyboard/textured_objs/original-8.obj"/>
			</geometry>
		</visual>
		<collision>
			<origin xyz="0.2305384505420256 -0.04784422458054394 0.11968905767549498"/>
			<geometry>
				<mesh filename="package://objects_description/keyboard/textured_objs/original-8.obj"/>
			</geometry>
		</collision>
	</link>
	<joint name="joint_61" type="prismatic">
		<origin xyz="-0.2305384505420256 0.04784422458054394 -0.11968905767549498"/>
		<axis xyz="0 -0.9938588581379322 -0.11065518560268853"/>
		<child link="link_61"/>
		<parent link="link_0"/>
		<limit lower="0" upper="0.01"/>
	</joint>
	<link name="link_62">
		<visual name="key-63">
			<origin xyz="0.2305384505420256 -0.04784422458054394 0.11968905767549498"/>
			<geometry>
				<mesh filename="package://objects_description/keyboard/textured_objs/original-62.obj"/>
			</geometry>
		</visual>
		<collision>
			<origin xyz="0.2305384505420256 -0.04784422458054394 0.11968905767549498"/>
			<geometry>
				<mesh filename="package://objects_description/keyboard/textured_objs/original-62.obj"/>
			</geometry>
		</collision>
	</link>
	<joint name="joint_62" type="prismatic">
		<origin xyz="-0.2305384505420256 0.04784422458054394 -0.11968905767549498"/>
		<axis xyz="0 -0.9938588581379322 -0.11065518560268853"/>
		<child link="link_62"/>
		<parent link="link_0"/>
		<limit lower="0" upper="0.01"/>
	</joint>
	<link name="link_63">
		<visual name="key-64">
			<origin xyz="0.2305384505420256 -0.04784422458054394 0.11968905767549498"/>
			<geometry>
				<mesh filename="package://objects_description/keyboard/textured_objs/original-30.obj"/>
			</geometry>
		</visual>
		<collision>
			<origin xyz="0.2305384505420256 -0.04784422458054394 0.11968905767549498"/>
			<geometry>
				<mesh filename="package://objects_description/keyboard/textured_objs/original-30.obj"/>
			</geometry>
		</collision>
	</link>
	<joint name="joint_63" type="prismatic">
		<origin xyz="-0.2305384505420256 0.04784422458054394 -0.11968905767549498"/>
		<axis xyz="0 -0.9938588581379322 -0.11065518560268853"/>
		<child link="link_63"/>
		<parent link="link_0"/>
		<limit lower="0" upper="0.01"/>
	</joint>
	<link name="link_64">
		<visual name="key-65">
			<origin xyz="0.2305384505420256 -0.04784422458054394 0.11968905767549498"/>
			<geometry>
				<mesh filename="package://objects_description/keyboard/textured_objs/original-73.obj"/>
			</geometry>
		</visual>
		<collision>
			<origin xyz="0.2305384505420256 -0.04784422458054394 0.11968905767549498"/>
			<geometry>
				<mesh filename="package://objects_description/keyboard/textured_objs/original-73.obj"/>
			</geometry>
		</collision>
	</link>
	<joint name="joint_64" type="prismatic">
		<origin xyz="-0.2305384505420256 0.04784422458054394 -0.11968905767549498"/>
		<axis xyz="0 -0.9938588581379322 -0.11065518560268853"/>
		<child link="link_64"/>
		<parent link="link_0"/>
		<limit lower="0" upper="0.01"/>
	</joint>
	<link name="link_65">
		<visual name="key-66">
			<origin xyz="0.2305384505420256 -0.04784422458054394 0.11968905767549498"/>
			<geometry>
				<mesh filename="package://objects_description/keyboard/textured_objs/original-27.obj"/>
			</geometry>
		</visual>
		<collision>
			<origin xyz="0.2305384505420256 -0.04784422458054394 0.11968905767549498"/>
			<geometry>
				<mesh filename="package://objects_description/keyboard/textured_objs/original-27.obj"/>
			</geometry>
		</collision>
	</link>
	<joint name="joint_65" type="prismatic">
		<origin xyz="-0.2305384505420256 0.04784422458054394 -0.11968905767549498"/>
		<axis xyz="0 -0.9938588581379322 -0.11065518560268853"/>
		<child link="link_65"/>
		<parent link="link_0"/>
		<limit lower="0" upper="0.01"/>
	</joint>
	<link name="link_66">
		<visual name="key-67">
			<origin xyz="0.2305384505420256 -0.04784422458054394 0.11968905767549498"/>
			<geometry>
				<mesh filename="package://objects_description/keyboard/textured_objs/original-61.obj"/>
			</geometry>
		</visual>
		<collision>
			<origin xyz="0.2305384505420256 -0.04784422458054394 0.11968905767549498"/>
			<geometry>
				<mesh filename="package://objects_description/keyboard/textured_objs/original-61.obj"/>
			</geometry>
		</collision>
	</link>
	<joint name="joint_66" type="prismatic">
		<origin xyz="-0.2305384505420256 0.04784422458054394 -0.11968905767549498"/>
		<axis xyz="0 -0.9938588581379322 -0.11065518560268853"/>
		<child link="link_66"/>
		<parent link="link_0"/>
		<limit lower="0" upper="0.01"/>
	</joint>
	<link name="link_67">
		<visual name="key-68">
			<origin xyz="0.2305384505420256 -0.04784422458054394 0.11968905767549498"/>
			<geometry>
				<mesh filename="package://objects_description/keyboard/textured_objs/original-26.obj"/>
			</geometry>
		</visual>
		<collision>
			<origin xyz="0.2305384505420256 -0.04784422458054394 0.11968905767549498"/>
			<geometry>
				<mesh filename="package://objects_description/keyboard/textured_objs/original-26.obj"/>
			</geometry>
		</collision>
	</link>
	<joint name="joint_67" type="prismatic">
		<origin xyz="-0.2305384505420256 0.04784422458054394 -0.11968905767549498"/>
		<axis xyz="0 -0.9938588581379322 -0.11065518560268853"/>
		<child link="link_67"/>
		<parent link="link_0"/>
		<limit lower="0" upper="0.01"/>
	</joint>
	<link name="link_68">
		<visual name="key-69">
			<origin xyz="0.2305384505420256 -0.04784422458054394 0.11968905767549498"/>
			<geometry>
				<mesh filename="package://objects_description/keyboard/textured_objs/original-29.obj"/>
			</geometry>
		</visual>
		<collision>
			<origin xyz="0.2305384505420256 -0.04784422458054394 0.11968905767549498"/>
			<geometry>
				<mesh filename="package://objects_description/keyboard/textured_objs/original-29.obj"/>
			</geometry>
		</collision>
	</link>
	<joint name="joint_68" type="prismatic">
		<origin xyz="-0.2305384505420256 0.04784422458054394 -0.11968905767549498"/>
		<axis xyz="0 -0.9938588581379322 -0.11065518560268853"/>
		<child link="link_68"/>
		<parent link="link_0"/>
		<limit lower="0" upper="0.01"/>
	</joint>
	<link name="link_69">
		<visual name="key-70">
			<origin xyz="0.2305384505420256 -0.04784422458054394 0.11968905767549498"/>
			<geometry>
				<mesh filename="package://objects_description/keyboard/textured_objs/original-63.obj"/>
			</geometry>
		</visual>
		<collision>
			<origin xyz="0.2305384505420256 -0.04784422458054394 0.11968905767549498"/>
			<geometry>
				<mesh filename="package://objects_description/keyboard/textured_objs/original-63.obj"/>
			</geometry>
		</collision>
	</link>
	<joint name="joint_69" type="prismatic">
		<origin xyz="-0.2305384505420256 0.04784422458054394 -0.11968905767549498"/>
		<axis xyz="0 -0.9938588581379322 -0.11065518560268853"/>
		<child link="link_69"/>
		<parent link="link_0"/>
		<limit lower="0" upper="0.01"/>
	</joint>
	<link name="link_70">
		<visual name="key-71">
			<origin xyz="0.2305384505420256 -0.04784422458054394 0.11968905767549498"/>
			<geometry>
				<mesh filename="package://objects_description/keyboard/textured_objs/original-12.obj"/>
			</geometry>
		</visual>
		<collision>
			<origin xyz="0.2305384505420256 -0.04784422458054394 0.11968905767549498"/>
			<geometry>
				<mesh filename="package://objects_description/keyboard/textured_objs/original-12.obj"/>
			</geometry>
		</collision>
	</link>
	<joint name="joint_70" type="prismatic">
		<origin xyz="-0.2305384505420256 0.04784422458054394 -0.11968905767549498"/>
		<axis xyz="0 -0.9938588581379322 -0.11065518560268853"/>
		<child link="link_70"/>
		<parent link="link_0"/>
		<limit lower="0" upper="0.01"/>
	</joint>
	<link name="link_71">
		<visual name="key-72">
			<origin xyz="0.2305384505420256 -0.04784422458054394 0.11968905767549498"/>
			<geometry>
				<mesh filename="package://objects_description/keyboard/textured_objs/original-25.obj"/>
			</geometry>
		</visual>
		<collision>
			<origin xyz="0.2305384505420256 -0.04784422458054394 0.11968905767549498"/>
			<geometry>
				<mesh filename="package://objects_description/keyboard/textured_objs/original-25.obj"/>
			</geometry>
		</collision>
	</link>
	<joint name="joint_71" type="prismatic">
		<origin xyz="-0.2305384505420256 0.04784422458054394 -0.11968905767549498"/>
		<axis xyz="0 -0.9938588581379322 -0.11065518560268853"/>
		<child link="link_71"/>
		<parent link="link_0"/>
		<limit lower="0" upper="0.01"/>
	</joint>
	<link name="link_72">
		<visual name="key-73">
			<origin xyz="0.2305384505420256 -0.04784422458054394 0.11968905767549498"/>
			<geometry>
				<mesh filename="package://objects_description/keyboard/textured_objs/original-31.obj"/>
			</geometry>
		</visual>
		<collision>
			<origin xyz="0.2305384505420256 -0.04784422458054394 0.11968905767549498"/>
			<geometry>
				<mesh filename="package://objects_description/keyboard/textured_objs/original-31.obj"/>
			</geometry>
		</collision>
	</link>
	<joint name="joint_72" type="prismatic">
		<origin xyz="-0.2305384505420256 0.04784422458054394 -0.11968905767549498"/>
		<axis xyz="0 -0.9938588581379322 -0.11065518560268853"/>
		<child link="link_72"/>
		<parent link="link_0"/>
		<limit lower="0" upper="0.01"/>
	</joint>
	<link name="link_73">
		<visual name="key-74">
			<origin xyz="0.2305384505420256 -0.04784422458054394 0.11968905767549498"/>
			<geometry>
				<mesh filename="package://objects_description/keyboard/textured_objs/original-71.obj"/>
			</geometry>
		</visual>
		<collision>
			<origin xyz="0.2305384505420256 -0.04784422458054394 0.11968905767549498"/>
			<geometry>
				<mesh filename="package://objects_description/keyboard/textured_objs/original-71.obj"/>
			</geometry>
		</collision>
	</link>
	<joint name="joint_73" type="prismatic">
		<origin xyz="-0.2305384505420256 0.04784422458054394 -0.11968905767549498"/>
		<axis xyz="0 -0.9938588581379322 -0.11065518560268853"/>
		<child link="link_73"/>
		<parent link="link_0"/>
		<limit lower="0" upper="0.01"/>
	</joint>
	<link name="link_74">
		<visual name="key-75">
			<origin xyz="0.2305384505420256 -0.04784422458054394 0.11968905767549498"/>
			<geometry>
				<mesh filename="package://objects_description/keyboard/textured_objs/original-60.obj"/>
			</geometry>
		</visual>
		<collision>
			<origin xyz="0.2305384505420256 -0.04784422458054394 0.11968905767549498"/>
			<geometry>
				<mesh filename="package://objects_description/keyboard/textured_objs/original-60.obj"/>
			</geometry>
		</collision>
	</link>
	<joint name="joint_74" type="prismatic">
		<origin xyz="-0.2305384505420256 0.04784422458054394 -0.11968905767549498"/>
		<axis xyz="0 -0.9938588581379322 -0.11065518560268853"/>
		<child link="link_74"/>
		<parent link="link_0"/>
		<limit lower="0" upper="0.01"/>
	</joint>
	<link name="link_75">
		<visual name="key-76">
			<origin xyz="0.2305384505420256 -0.04784422458054394 0.11968905767549498"/>
			<geometry>
				<mesh filename="package://objects_description/keyboard/textured_objs/original-18.obj"/>
			</geometry>
		</visual>
		<collision>
			<origin xyz="0.2305384505420256 -0.04784422458054394 0.11968905767549498"/>
			<geometry>
				<mesh filename="package://objects_description/keyboard/textured_objs/original-18.obj"/>
			</geometry>
		</collision>
	</link>
	<joint name="joint_75" type="prismatic">
		<origin xyz="-0.2305384505420256 0.04784422458054394 -0.11968905767549498"/>
		<axis xyz="0 -0.9938588581379322 -0.11065518560268853"/>
		<child link="link_75"/>
		<parent link="link_0"/>
		<limit lower="0" upper="0.01"/>
	</joint>
	<link name="link_76">
		<visual name="key-77">
			<origin xyz="0.2305384505420256 -0.04784422458054394 0.11968905767549498"/>
			<geometry>
				<mesh filename="package://objects_description/keyboard/textured_objs/original-15.obj"/>
			</geometry>
		</visual>
		<collision>
			<origin xyz="0.2305384505420256 -0.04784422458054394 0.11968905767549498"/>
			<geometry>
				<mesh filename="package://objects_description/keyboard/textured_objs/original-15.obj"/>
			</geometry>
		</collision>
	</link>
	<joint name="joint_76" type="prismatic">
		<origin xyz="-0.2305384505420256 0.04784422458054394 -0.11968905767549498"/>
		<axis xyz="0 -0.9938588581379322 -0.11065518560268853"/>
		<child link="link_76"/>
		<parent link="link_0"/>
		<limit lower="0" upper="0.01"/>
	</joint>
	<link name="link_77">
		<visual name="key-78">
			<origin xyz="0.2305384505420256 -0.04784422458054394 0.11968905767549498"/>
			<geometry>
				<mesh filename="package://objects_description/keyboard/textured_objs/original-11.obj"/>
			</geometry>
		</visual>
		<collision>
			<origin xyz="0.2305384505420256 -0.04784422458054394 0.11968905767549498"/>
			<geometry>
				<mesh filename="package://objects_description/keyboard/textured_objs/original-11.obj"/>
			</geometry>
		</collision>
	</link>
	<joint name="joint_77" type="prismatic">
		<origin xyz="-0.2305384505420256 0.04784422458054394 -0.11968905767549498"/>
		<axis xyz="0 -0.9938588581379322 -0.11065518560268853"/>
		<child link="link_77"/>
		<parent link="link_0"/>
		<limit lower="0" upper="0.01"/>
	</joint>
</robot>
